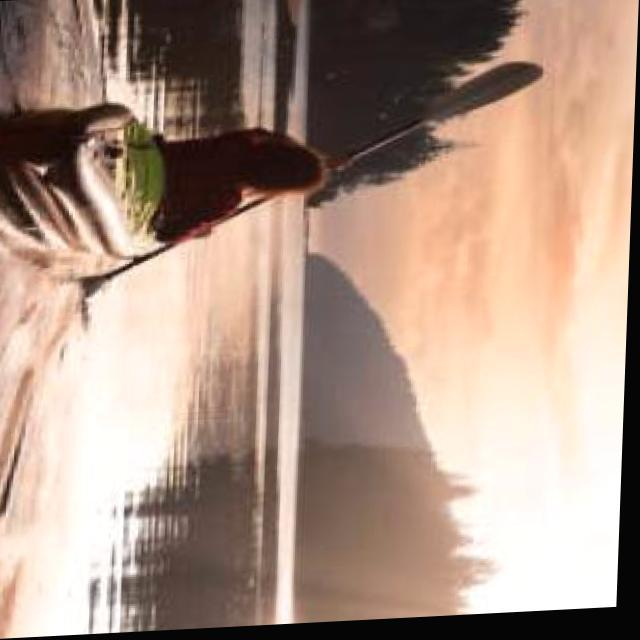kayak: (4, 102, 210, 260)
